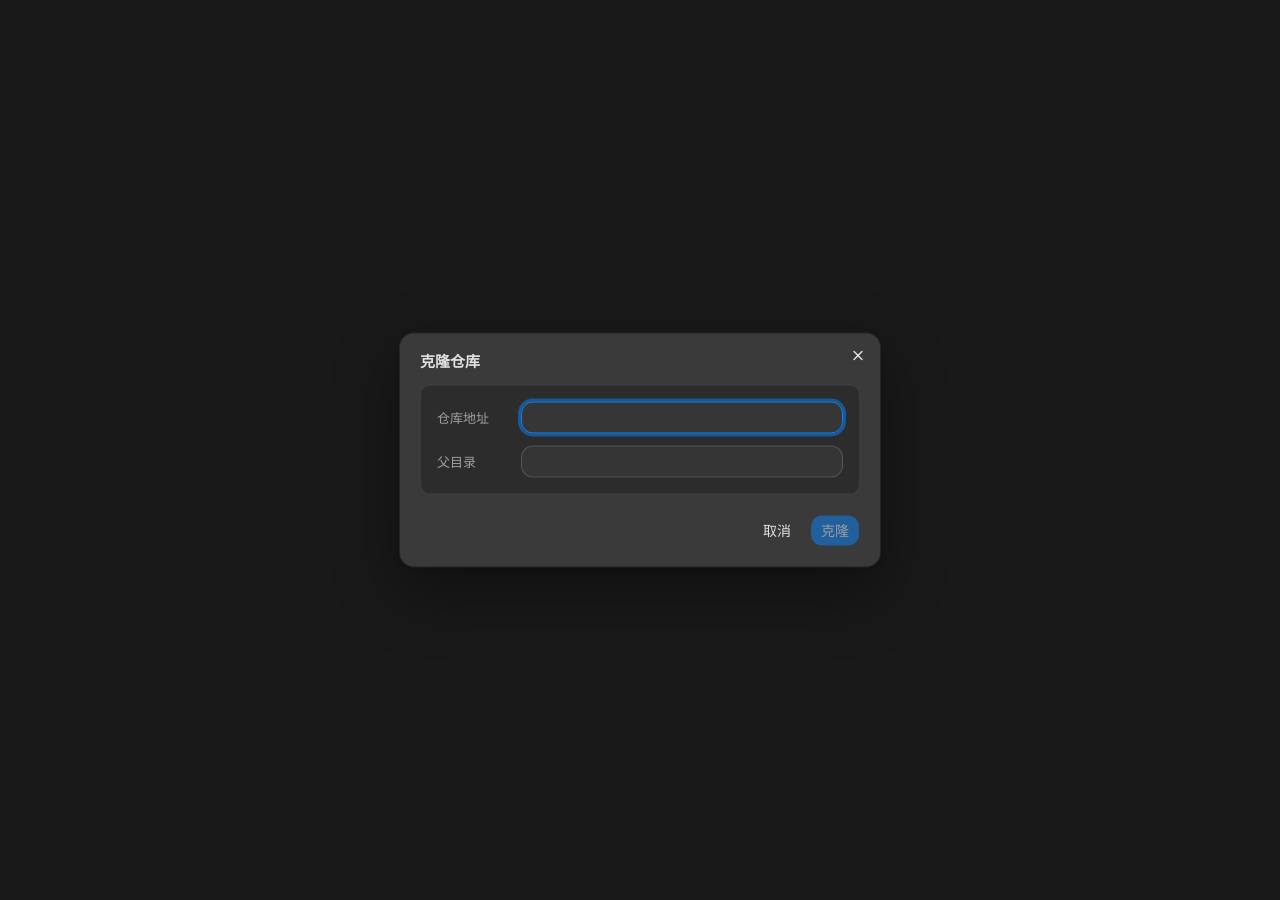
Test case: CloneRepoDialog › 地址与父目录都填了才能克隆
This screenshot has width=1280, height=900.
Expected: the button "克隆" is disabled, [810,514,860,546]
In the field labelled "仓库地址": (682, 418) [521,402,843,434], type "https://example.test/demo.git"
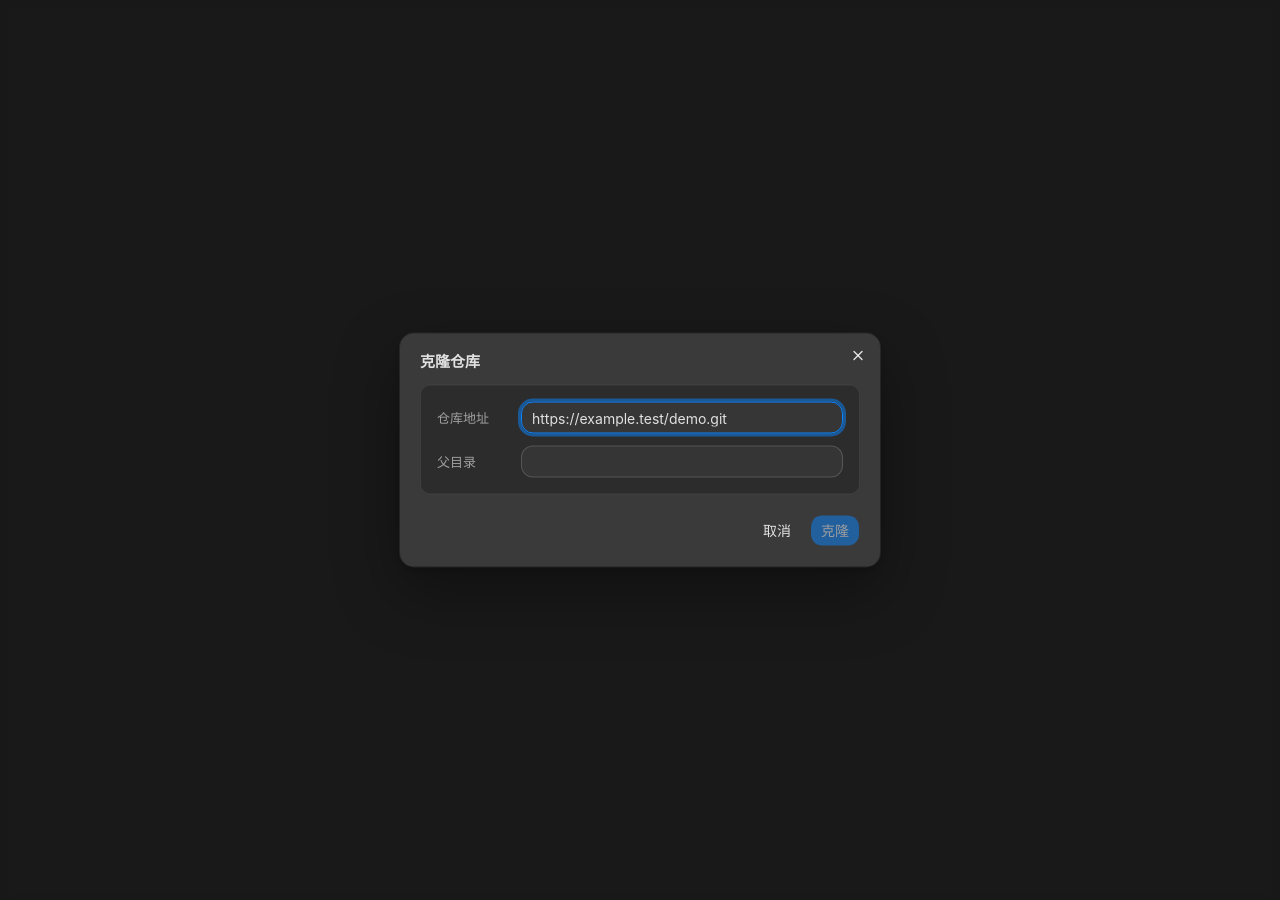
Expected: the button "克隆" is disabled, [810,514,860,546]
In the field labelled "父目录": (682, 462) [521,446,843,478], type "/tmp"
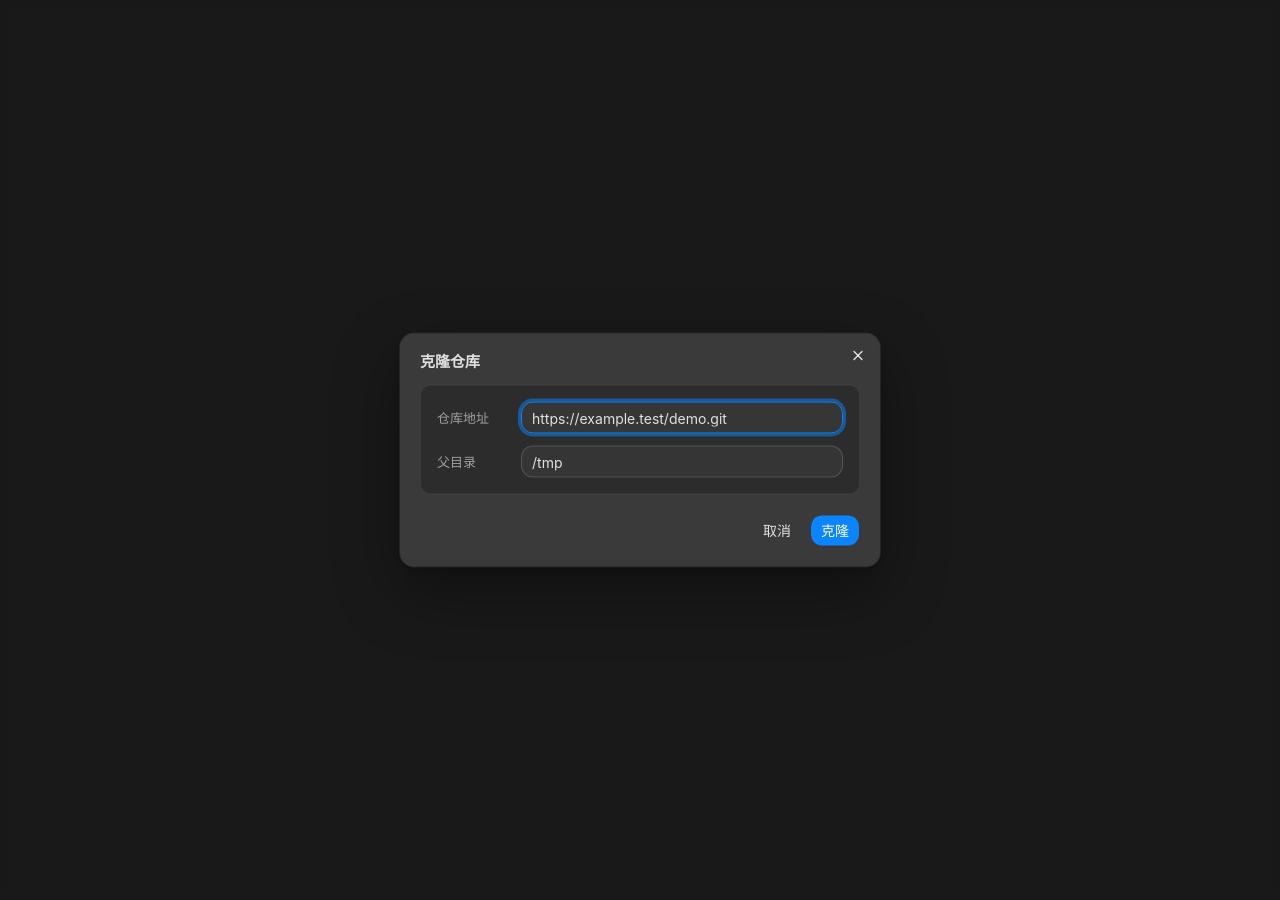
Expected: the button "克隆" is enabled, [810,514,860,546]
